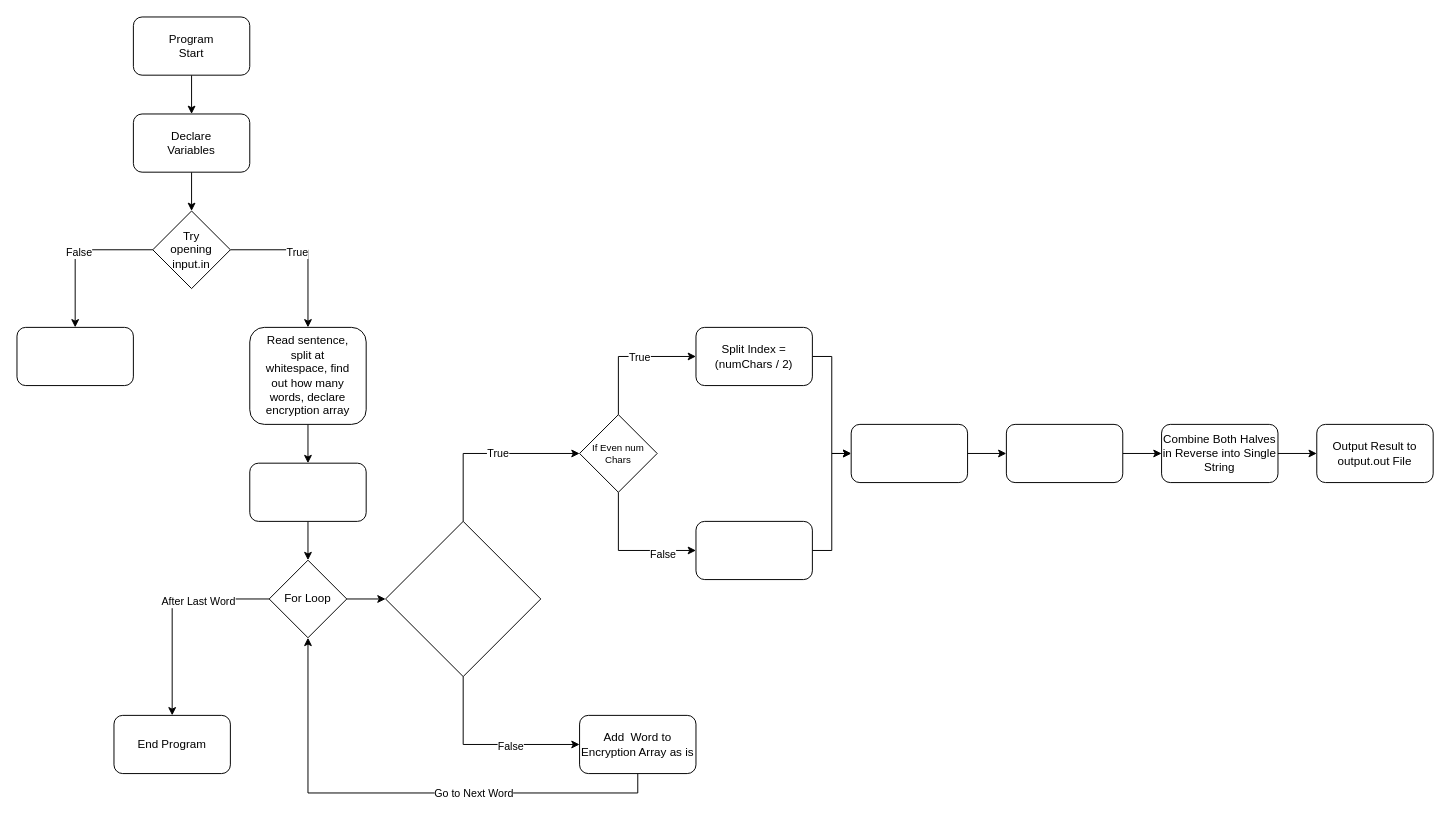
Image size: 1450x818. Some labels were removed from this diagram. Here are the shapes that lost their labels. From the top down, the box of each, then its label:
(16, 326, 133, 386): End Program with Error
(850, 423, 968, 483): "Copy" First Half of Word to firstHalf String
(1005, 423, 1123, 483): "Copy" Last Half of Word to lastHalf String
(249, 462, 366, 521): Print Debug Info
(695, 520, 812, 580): Split Index = (numChars + 1) / 2
(385, 520, 541, 677): If numChars > 1
